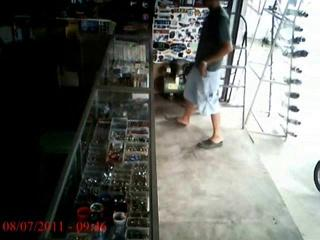Normal: (175, 0, 232, 150)
